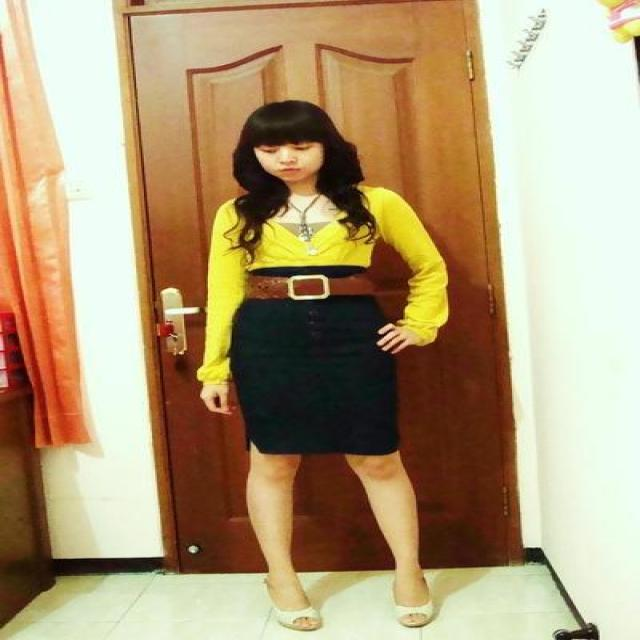jacket: (197, 187, 446, 384)
shirt: (268, 193, 346, 241)
shoe: (267, 595, 429, 625)
skirt: (225, 266, 398, 467)
